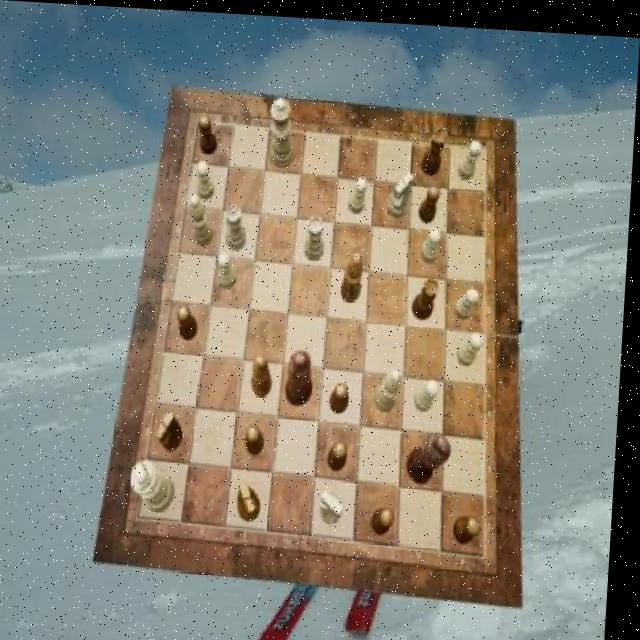bishop: (343, 247, 366, 299), (255, 351, 277, 394)
black-bishop: (410, 425, 457, 481)
black-king: (158, 408, 188, 450), (242, 479, 267, 518)
black-knight: (178, 301, 202, 337), (420, 180, 442, 219), (198, 113, 220, 152), (459, 510, 487, 539), (331, 436, 353, 468), (376, 502, 400, 530), (333, 378, 354, 410), (250, 420, 269, 452)
black-pawn: (289, 347, 319, 404)
black-queen: (421, 123, 448, 172), (414, 272, 442, 316)
black-rook: (191, 192, 218, 245), (377, 363, 404, 408)
white-bishop: (136, 458, 182, 511)
white-king: (390, 167, 416, 214), (325, 484, 351, 520)
white-knight: (457, 134, 482, 175), (458, 325, 486, 361), (417, 374, 443, 409), (197, 157, 218, 198), (458, 282, 483, 315), (421, 222, 443, 259), (220, 249, 241, 286), (350, 172, 370, 209)
white-pawn: (269, 94, 299, 165)
white-queen: (225, 202, 250, 248), (306, 212, 328, 257)
